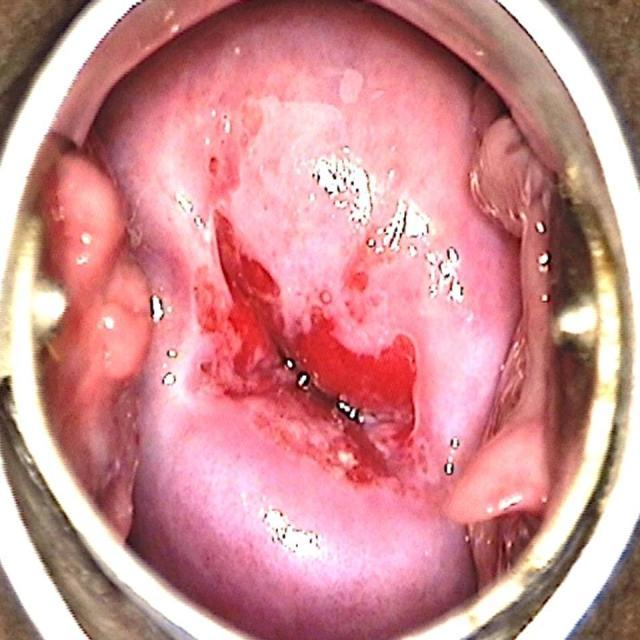cervical_lesion: (133, 82, 489, 613)
